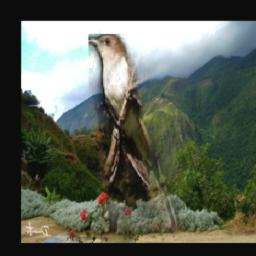Cuckoo: (88, 34, 179, 232)
